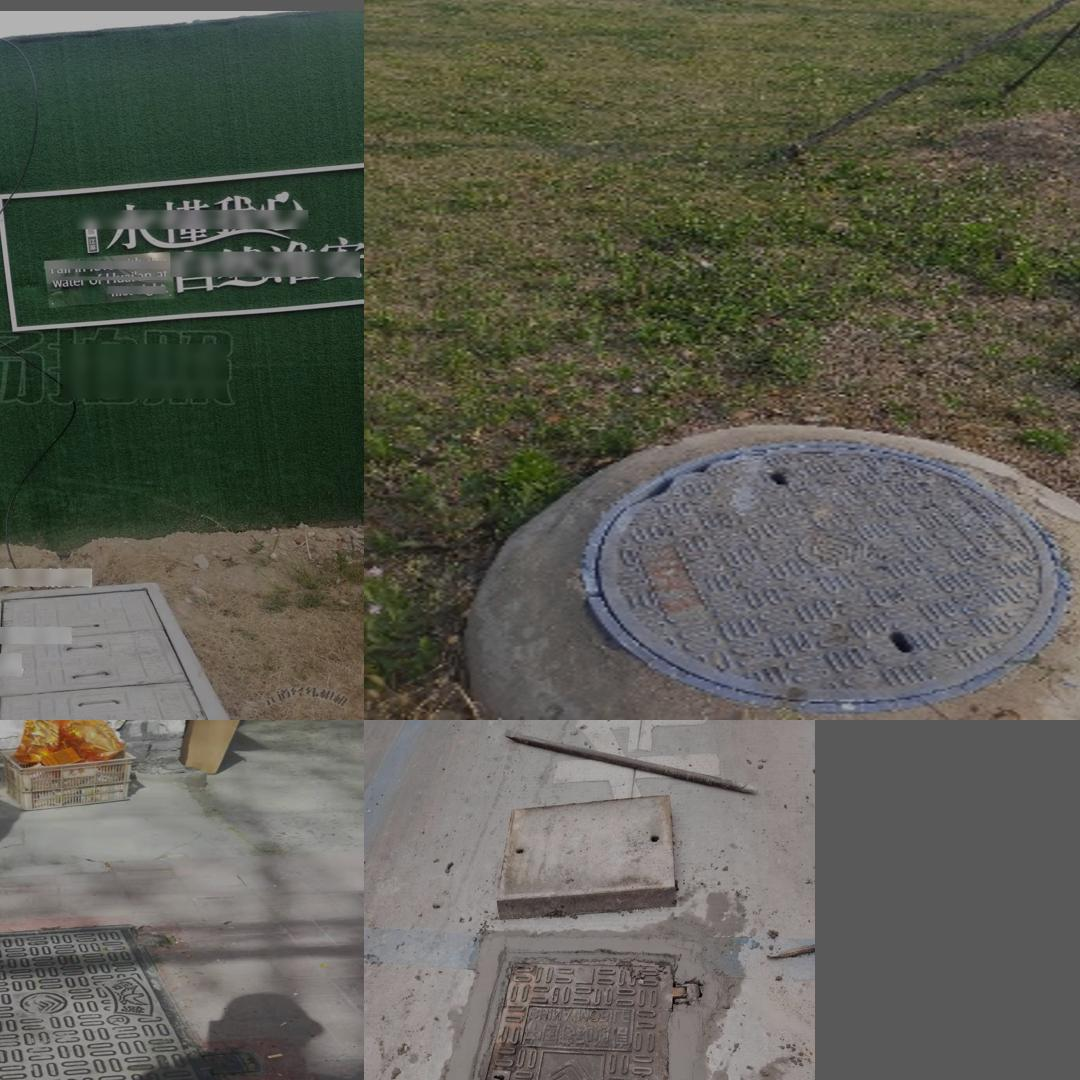good: (573, 437, 1066, 720), (0, 922, 262, 1080), (422, 949, 698, 1080), (0, 579, 228, 720)
